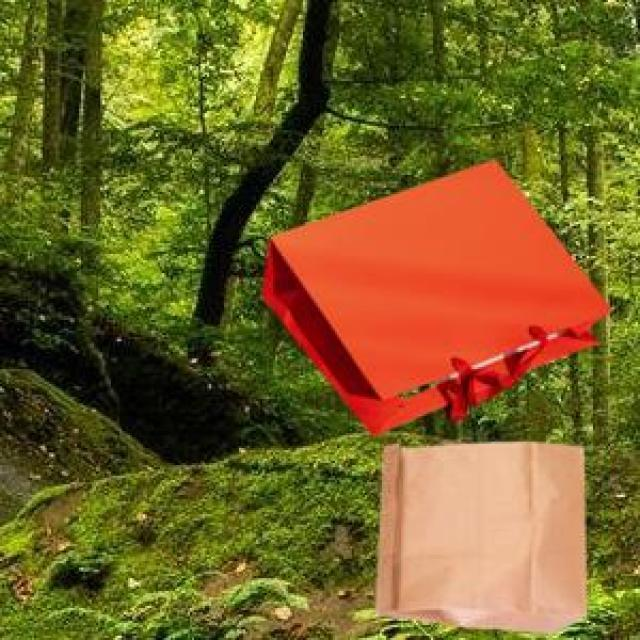paper: (258, 156, 606, 431), (371, 437, 582, 629)
